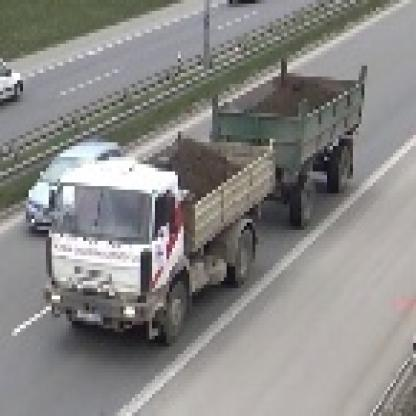truck: (44, 48, 365, 344)
